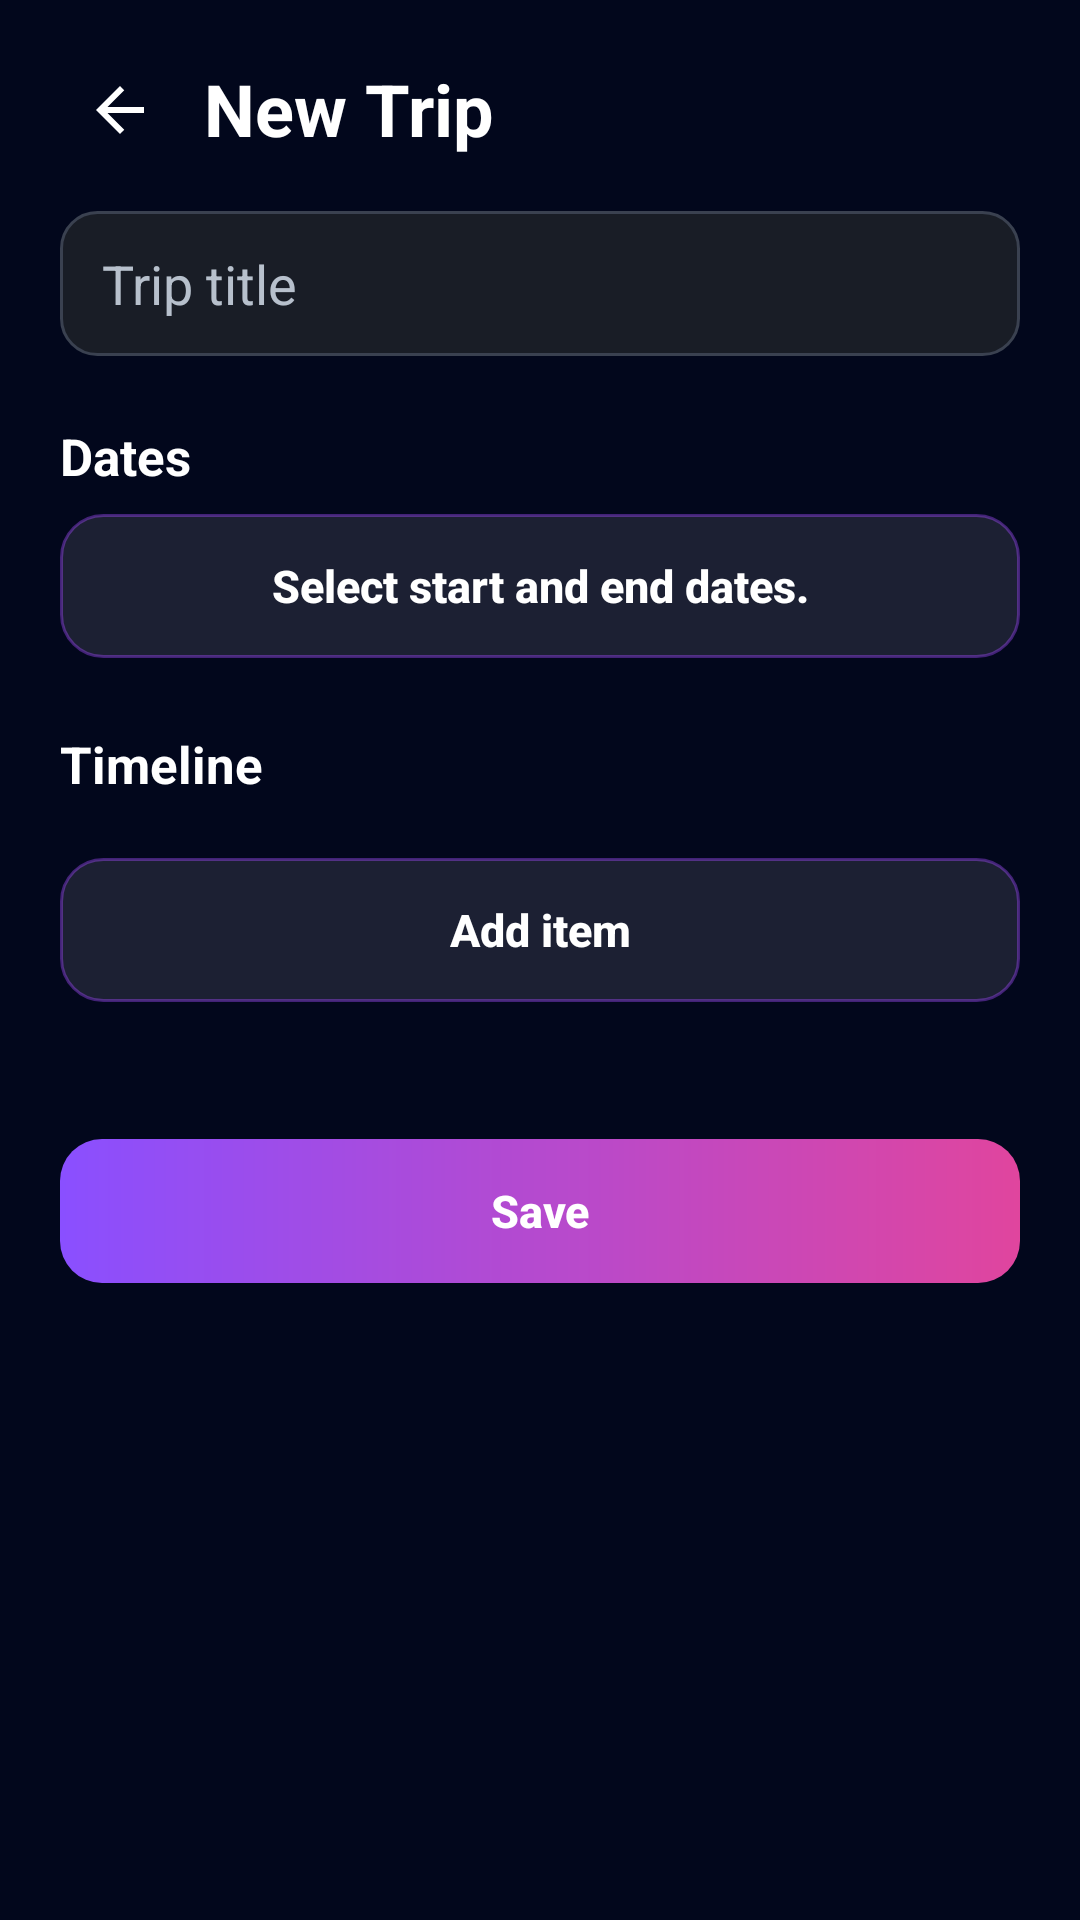

Screen size 1080px x 1920px. Icon name, then its center in pixels as [x,y]:
Cancel: [120,110]
